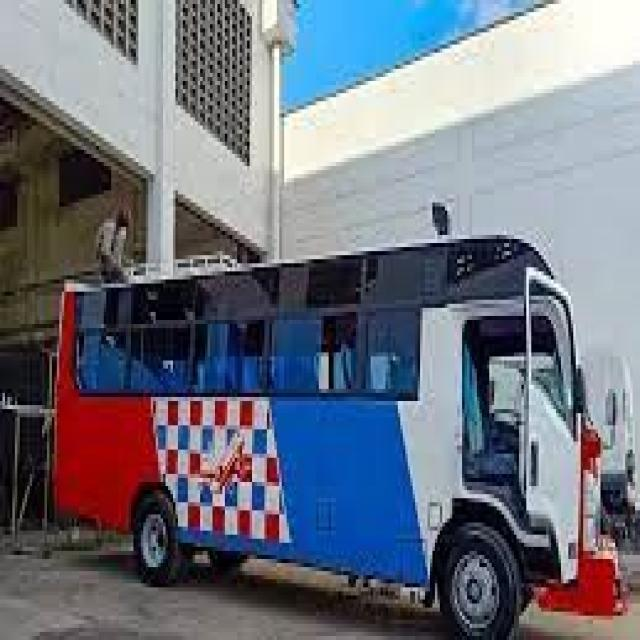bus: (43, 184, 634, 638)
